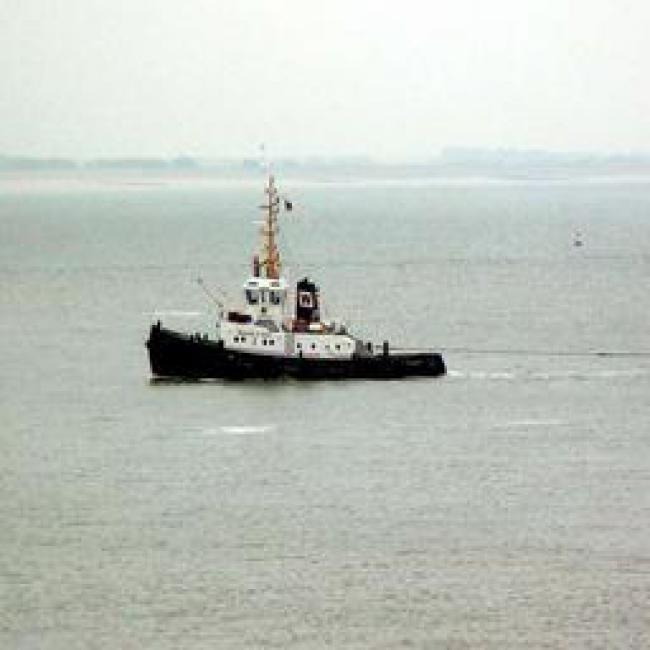Ship: (126, 244, 458, 393)
